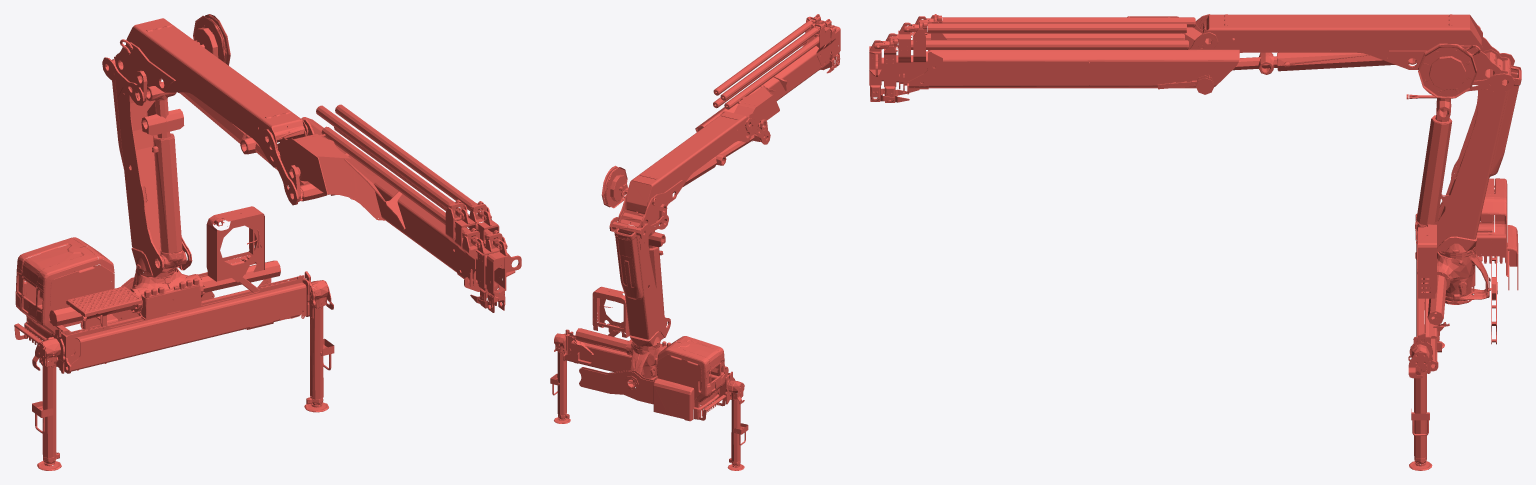
File: hiab-x-hipro-142e4-articulated.glb
The picture shows the model from 3 angles, left to right: view 1: azimuth 30°, elevation 25°; view 2: azimuth 150°, elevation 25°; view 3: azimuth 270°, elevation 25°; orthographic projection. The views are drawn at different scales.
Visible parts, largest first — view 1: base_mesh, outer_mesh, main_mesh, column_mesh, cyl1_mesh, ext4_mesh; view 2: base_mesh, main_mesh, outer_mesh, column_mesh, cyl1_mesh, ext4_mesh; view 3: outer_mesh, main_mesh, column_mesh, base_mesh, cyl1_mesh, ext4_mesh.
Boxes of the visible parts, x1=… form: base_mesh: x1=14, y1=246, x2=334, y2=470; outer_mesh: x1=262, y1=104, x2=499, y2=282; main_mesh: x1=102, y1=14, x2=308, y2=185; column_mesh: x1=17, y1=56, x2=264, y2=286; cyl1_mesh: x1=141, y1=99, x2=186, y2=269; ext4_mesh: x1=464, y1=230, x2=521, y2=312; base_mesh: x1=550, y1=322, x2=748, y2=470; main_mesh: x1=601, y1=111, x2=754, y2=239; outer_mesh: x1=695, y1=14, x2=835, y2=144; column_mesh: x1=592, y1=210, x2=724, y2=375; cyl1_mesh: x1=648, y1=227, x2=667, y2=326; ext4_mesh: x1=821, y1=19, x2=840, y2=73; outer_mesh: x1=898, y1=14, x2=1239, y2=94; main_mesh: x1=1198, y1=14, x2=1520, y2=99; column_mesh: x1=1416, y1=49, x2=1521, y2=298; base_mesh: x1=1408, y1=185, x2=1518, y2=470; cyl1_mesh: x1=1415, y1=98, x2=1452, y2=231; ext4_mesh: x1=869, y1=33, x2=909, y2=102.
Bounding box in the file's own units: 2.51 × 3.53 × 5.23.
